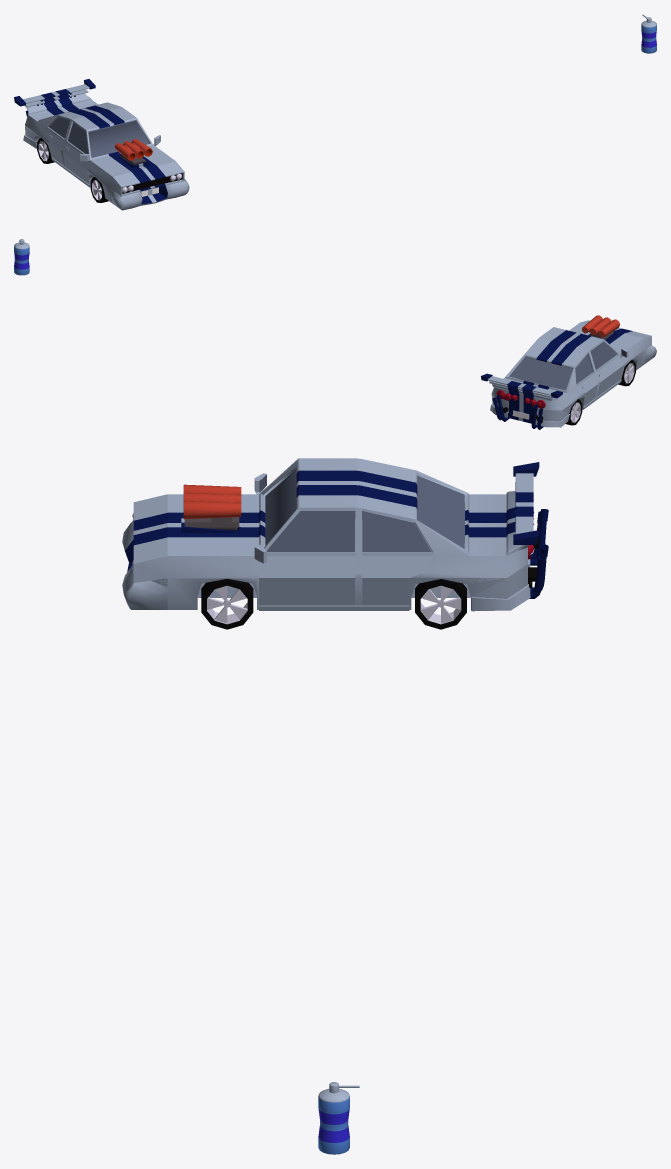
Rendered from engine1.fbx.
3 views of the same model, one above another, from view 1: azimuth 30°, elevation 25°; view 2: azimuth 150°, elevation 25°; view 3: azimuth 270°, elevation 25° (orthographic). The views are drawn at different scales.
Visible parts, largest first — view 1: Carcas, Bumper, Engine1, Bumper3, Engine3, spoiler3.001, Cylinder, spoiler1.001; view 2: Carcas, Bumper, Bumper3, Engine3, Bumper2, Engine1, Cylinder, spoiler3.001; view 3: Bumper, Carcas, Engine1, Engine3, Bumper3, Cylinder, Bumper2, Muscle 2 wheel front left, Muscle 2 wheel rear left, spoiler3.001.
Boxes of the visible parts, x1,y1,x2,y2 form: Carcas: [25, 99, 184, 203]; Bumper: [25, 115, 162, 196]; Engine1: [90, 145, 184, 186]; Bumper3: [25, 110, 189, 210]; Engine3: [91, 139, 183, 184]; spoiler3.001: [14, 79, 95, 106]; Cylinder: [641, 14, 656, 53]; spoiler1.001: [26, 93, 90, 114]; Carcas: [491, 327, 651, 410]; Bumper: [497, 340, 628, 423]; Bumper3: [492, 345, 656, 429]; Engine3: [575, 315, 644, 354]; Bumper2: [490, 394, 569, 427]; Engine1: [569, 320, 651, 354]; Cylinder: [14, 239, 29, 275]; spoiler3.001: [481, 373, 562, 398]; Bumper: [152, 466, 534, 609]; Carcas: [132, 458, 527, 609]; Engine1: [133, 494, 258, 563]; Engine3: [133, 484, 258, 562]; Bumper3: [122, 509, 548, 610]; Cylinder: [318, 1082, 359, 1154]; Bumper2: [125, 538, 538, 611]; Muscle 2 wheel front left: [201, 578, 253, 629]; Muscle 2 wheel rear left: [415, 579, 466, 629]; spoiler3.001: [513, 462, 539, 544].
Bounding box in the file's own units: 2065 × 220 × 642.
